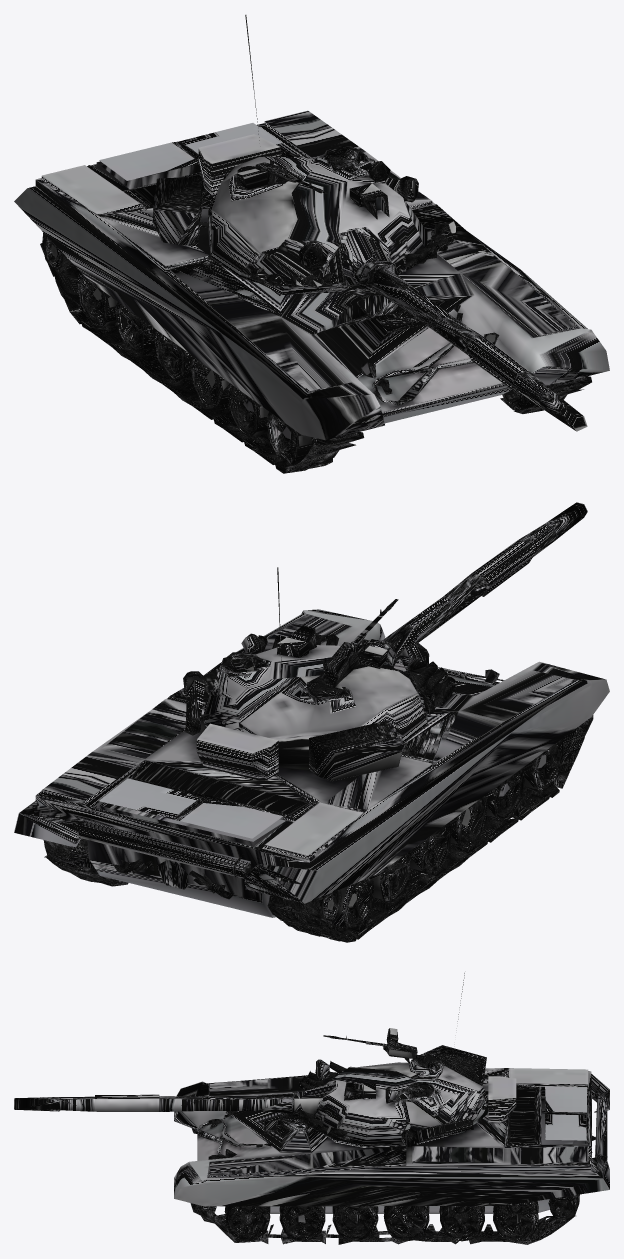
3 views of the same model, one above another, from view 1: azimuth 30°, elevation 25°; view 2: azimuth 150°, elevation 25°; view 3: azimuth 270°, elevation 25° (orthographic). The views are drawn at different scales.
Bounding box in the file's own units: 23.2 × 23.85 × 58.18.
Materials: 2 (2 with a texture image).
